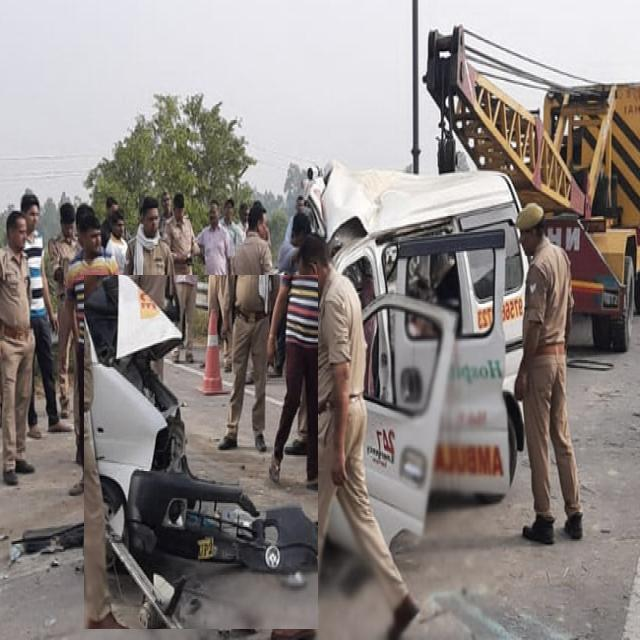accident: (308, 162, 528, 541), (84, 276, 318, 629)
truck: (424, 26, 640, 349)
